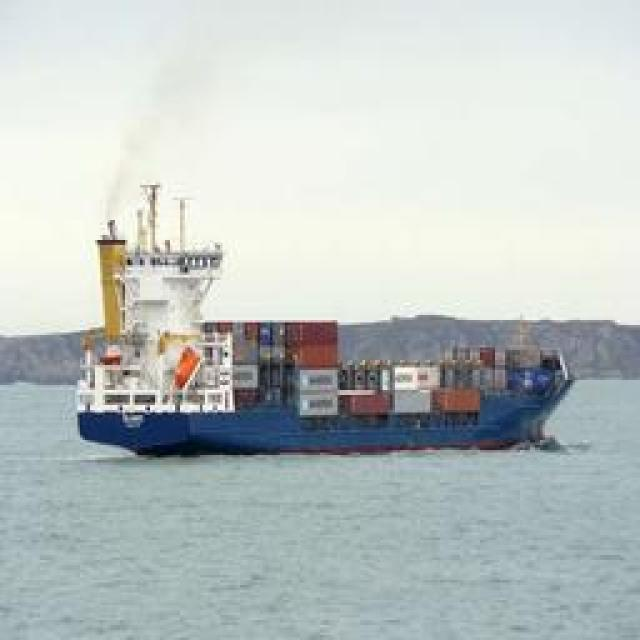CIV_Ship: (66, 347, 579, 455)
